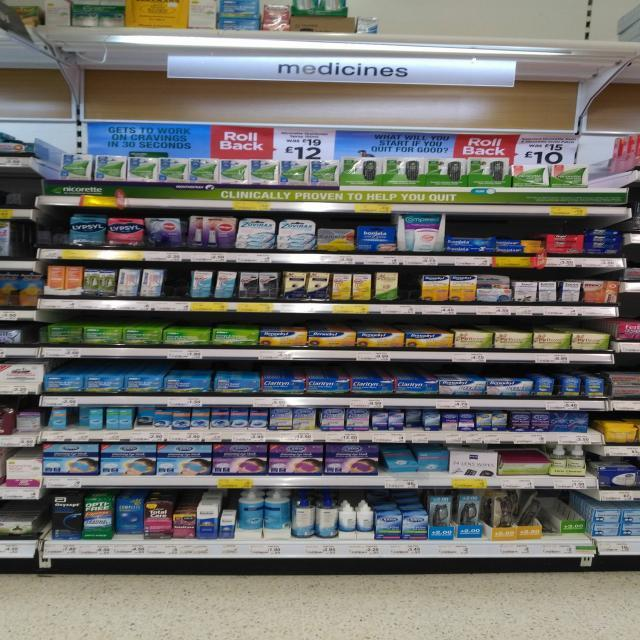Imprecise: (115, 503, 144, 542), (135, 407, 154, 427), (78, 408, 91, 429)
